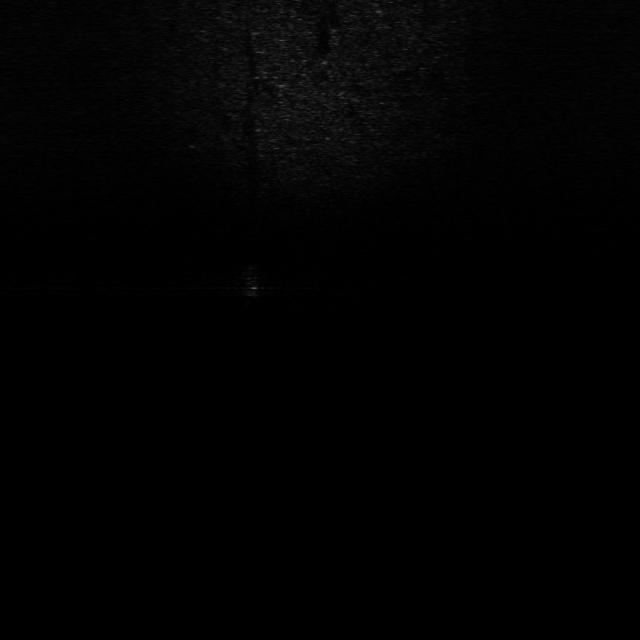human body: (236, 258, 266, 313)
